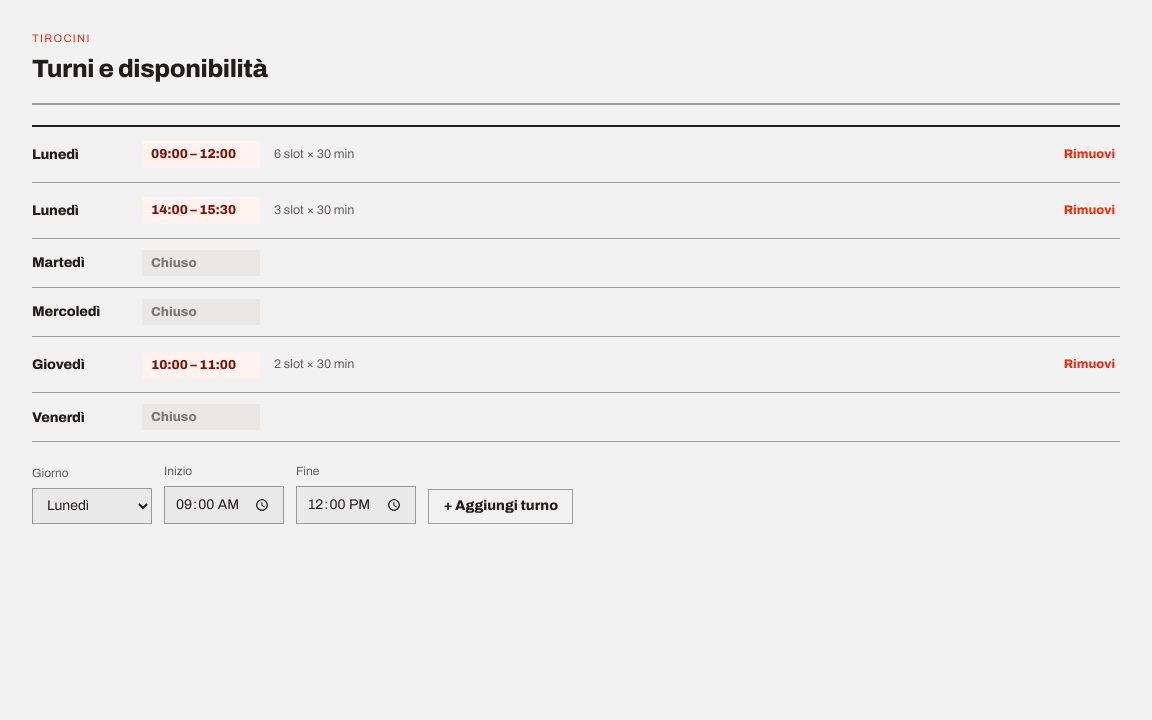
AvailabilityView › shows a generic message when a removal cannot be sent
Click the button "Rimuovi" in the row of "6 slot × 30 min" at (1089, 154), box [1059,138,1120,171]
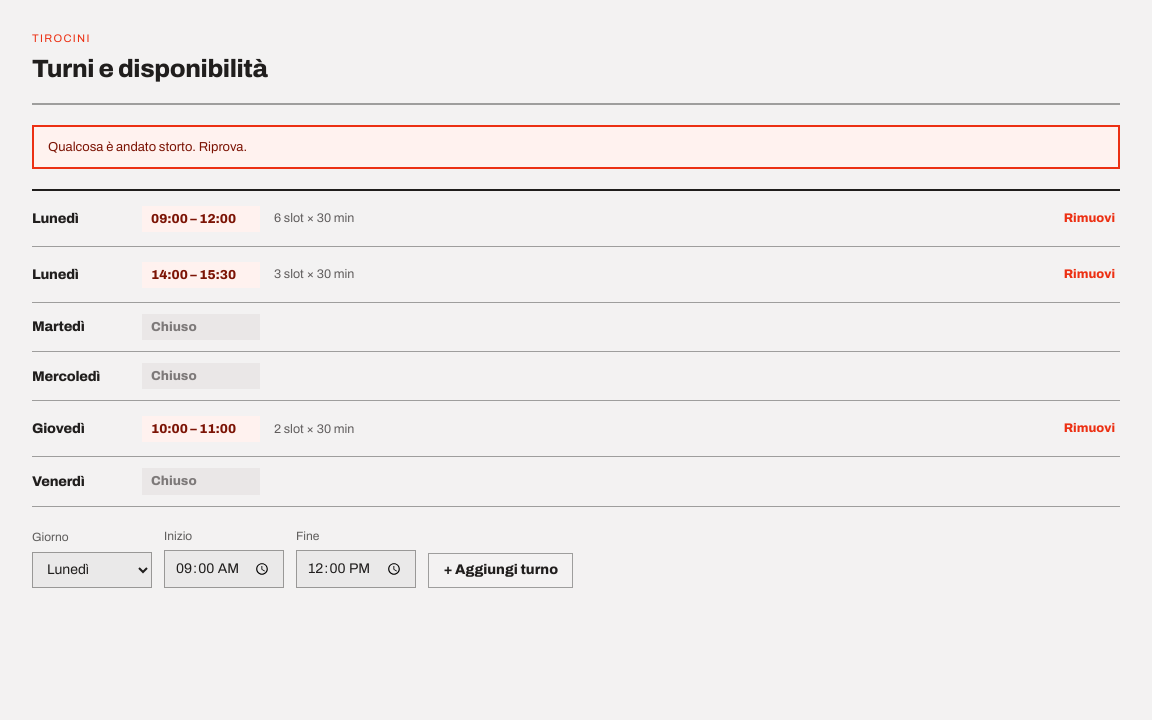
Expected: the message "Qualcosa è andato storto. Riprova." is shown, [32,125,1120,169]
